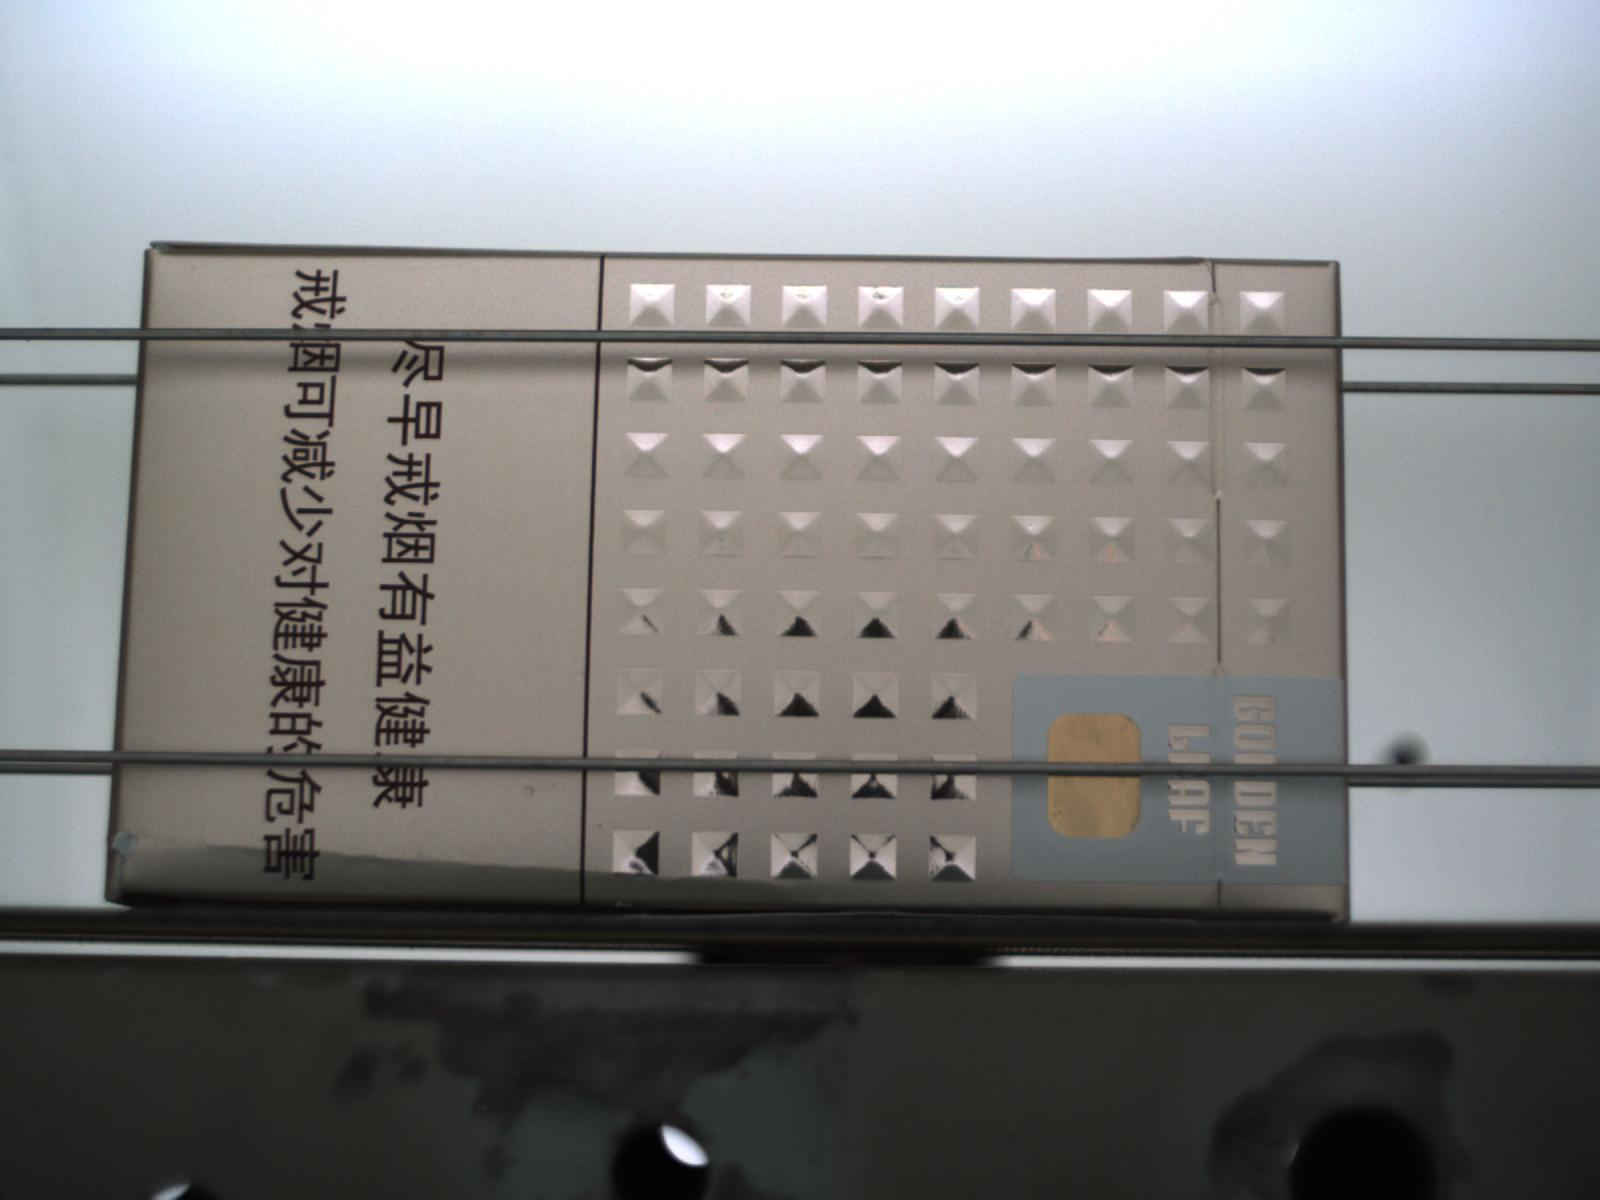boxDamage_slight: (105, 834, 867, 914)
crease_corner_heavy: (101, 824, 157, 906)
dirtySpot: (523, 783, 538, 797), (593, 821, 606, 832)
